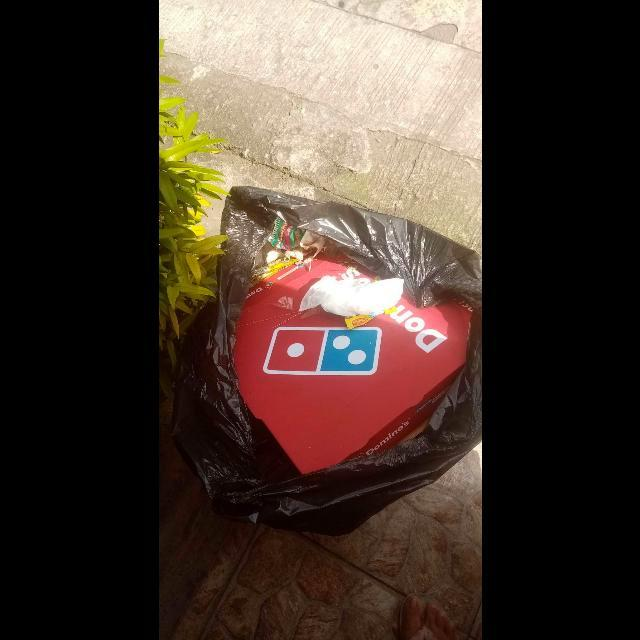cardboard: (231, 239, 474, 475)
food_wrapper: (248, 259, 300, 288), (271, 215, 306, 250)
paper: (299, 275, 403, 318), (299, 229, 325, 258), (255, 240, 281, 265)
